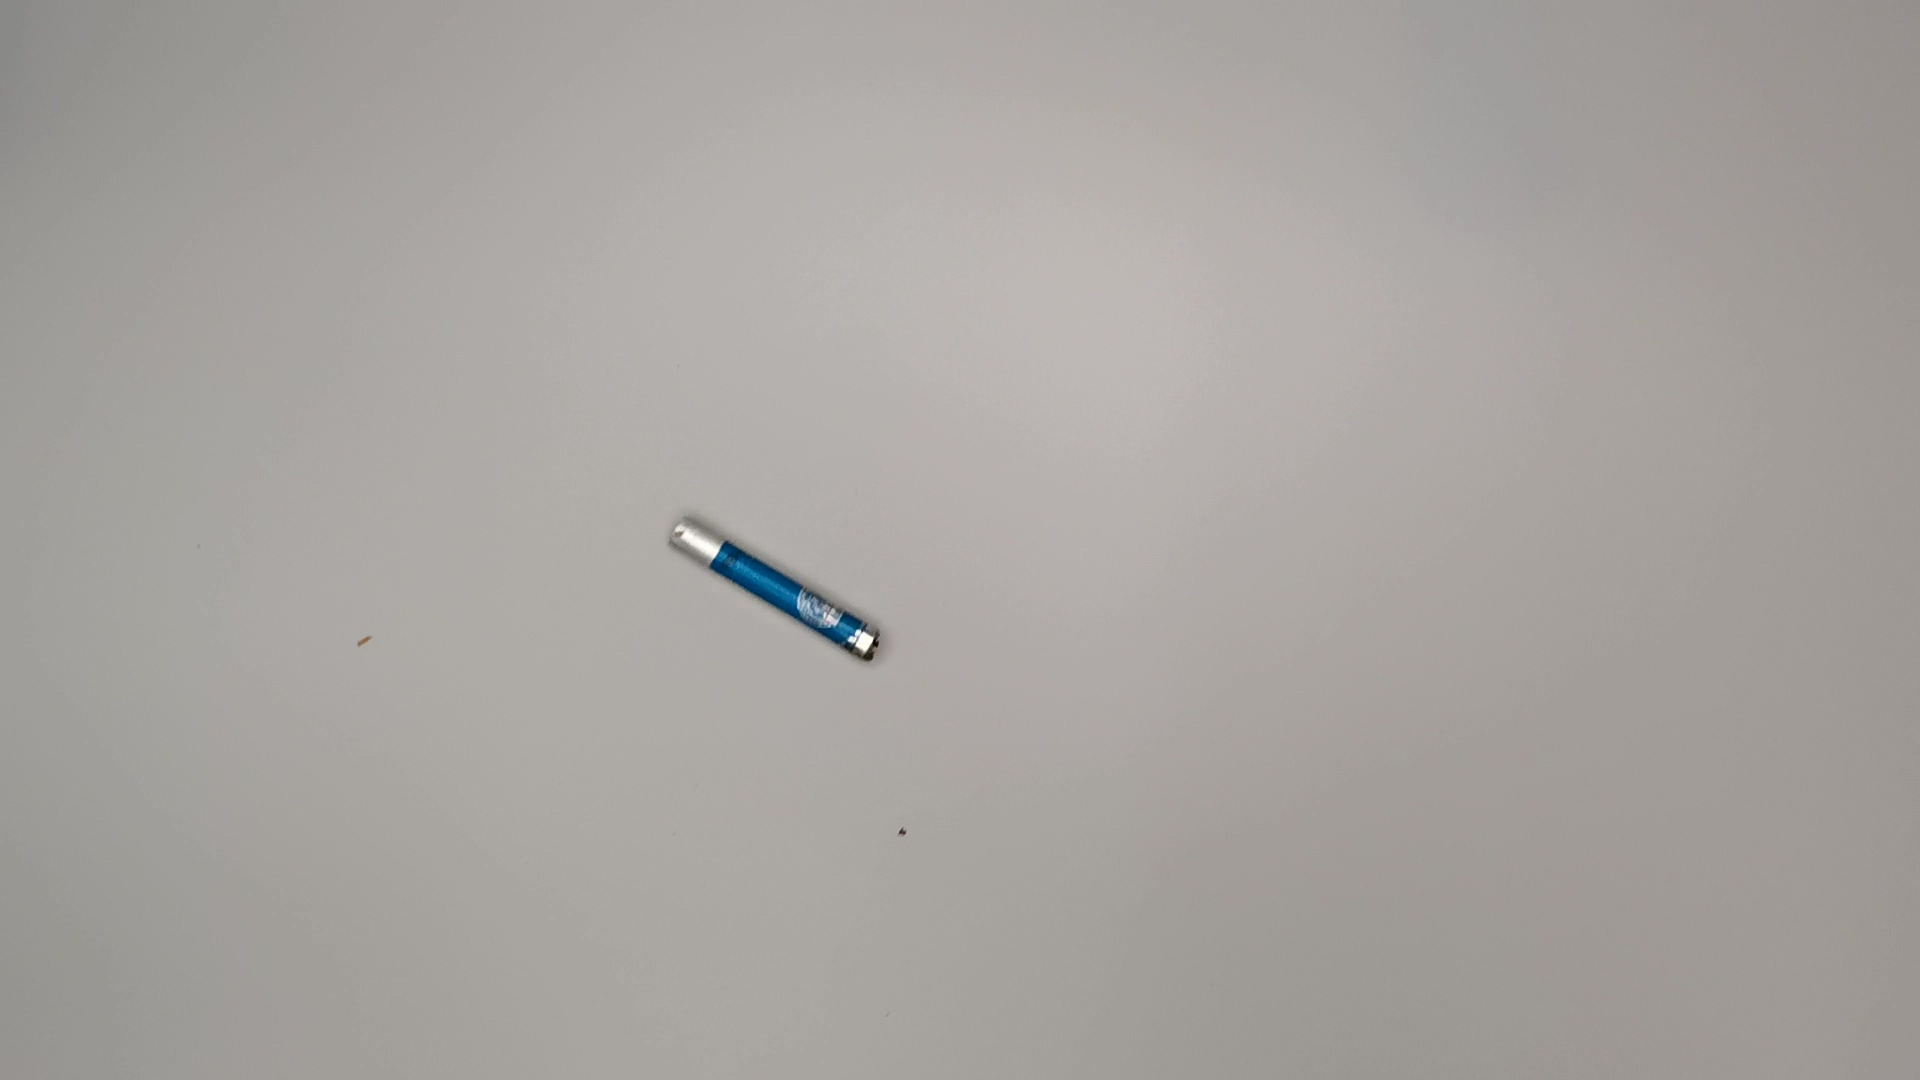cigarette: (662, 512, 893, 669)
